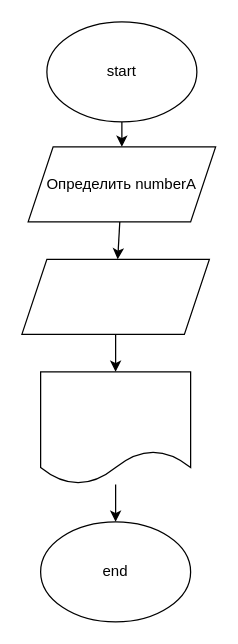
The diagram is 238 pixels wide and 644 high, and some of its shapes have lost their labels. Here are the shapes that lost their labels. From the top down, the centre of each, then its label:
the point at 115,296: Определить numberB
the point at 115,427: Вывод numberA + numberBВывод numberA + numberB
